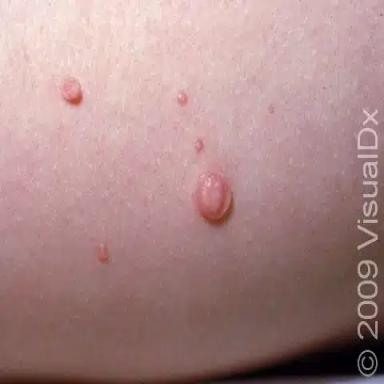Molluscum-Contagiosum: (196, 173, 233, 224), (61, 77, 83, 106), (96, 243, 110, 264), (177, 90, 188, 106), (194, 139, 204, 153)
